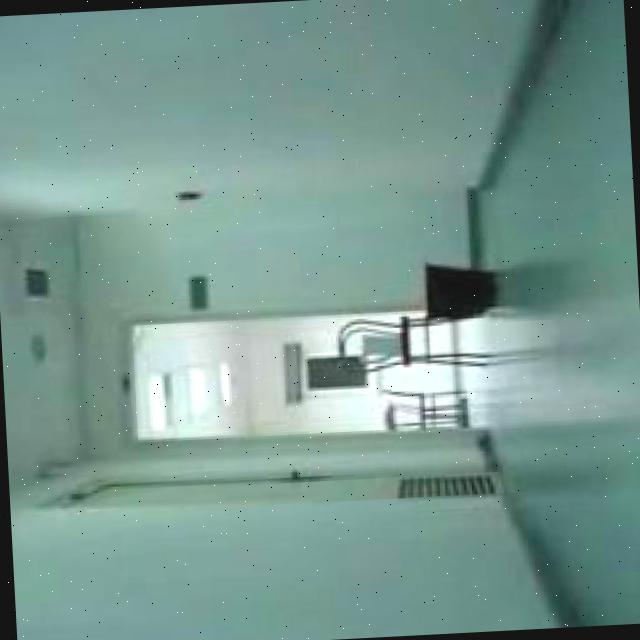fire: (394, 299, 429, 333)
